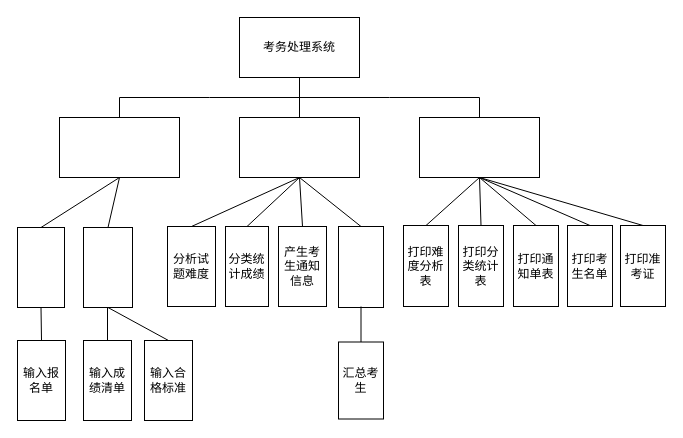
This 683x438 diagram has some shape labels left out. Each missing label, with the centre of its shape:
审定合格者: (107,267)
检测报名单: (40,267)
编准考证号: (361,267)
考试信息处理: (299,147)
考试信息打印: (479,147)
考试信息检查: (119,147)
